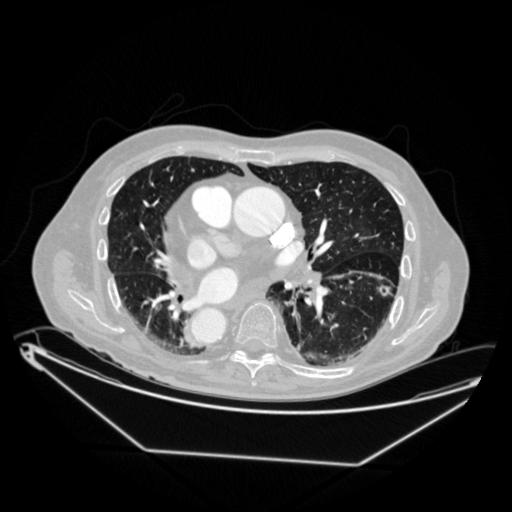nodule: (379, 282, 396, 299)
